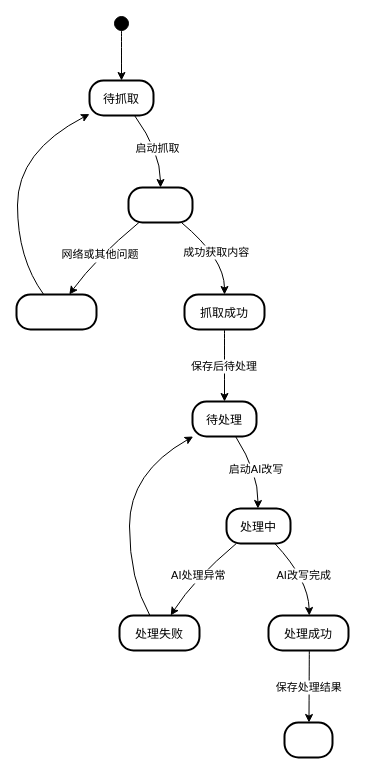
The diagram is 365 pixels wide and 774 high, and some of its shapes have lost their labels. The box of each missing label's shape, as (x1, y1, x2, y2) in pixels:
完成: (283, 721, 333, 758)
抓取中: (127, 186, 193, 223)
抓取失败: (15, 293, 97, 330)
